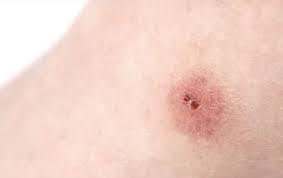Tick: (167, 69, 224, 135)
